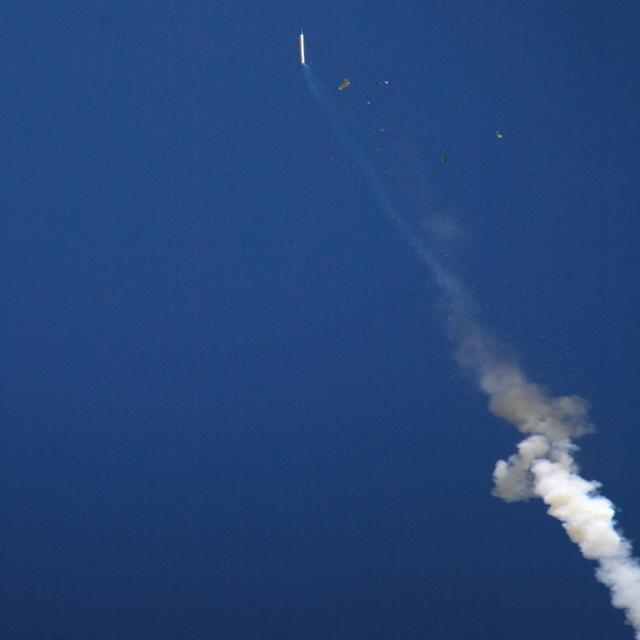missile: (295, 29, 309, 65)
